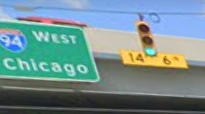1: (126, 51, 136, 64)
4: (134, 51, 146, 64)
6: (160, 53, 173, 67)
overheadsign: (118, 48, 189, 69)
